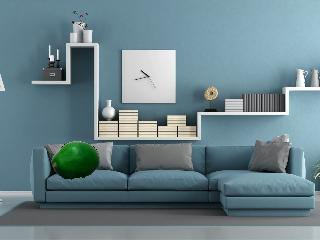lime: (48, 139, 102, 181)
